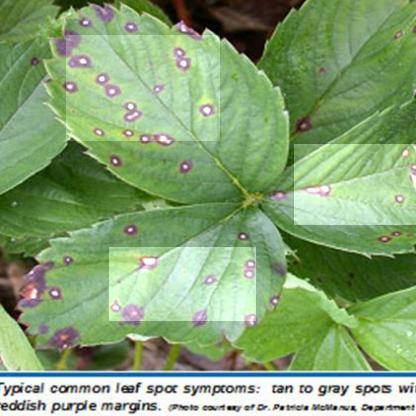black-spot: (66, 35, 220, 141), (109, 247, 256, 322), (294, 144, 416, 225)
